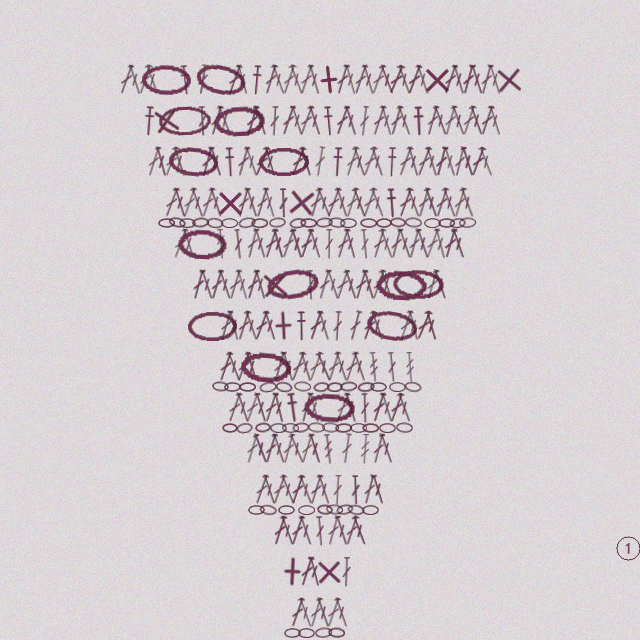chain: (193, 60, 249, 100), (364, 307, 419, 345), (265, 266, 320, 303), (239, 350, 292, 384), (167, 145, 220, 179), (158, 105, 211, 137), (303, 392, 355, 424), (375, 269, 427, 301), (213, 105, 265, 137), (392, 269, 445, 300), (177, 228, 228, 260), (141, 64, 192, 95), (258, 147, 310, 177), (187, 311, 237, 341), (336, 503, 354, 516), (168, 216, 186, 229), (238, 216, 256, 229), (259, 504, 277, 516), (347, 504, 365, 516), (259, 381, 277, 393), (275, 381, 293, 393), (357, 381, 375, 393), (404, 381, 422, 393), (206, 217, 224, 229), (289, 217, 307, 229), (236, 422, 253, 434), (313, 381, 330, 393), (449, 217, 466, 229), (292, 422, 310, 433), (328, 217, 346, 228), (315, 627, 332, 638), (328, 627, 345, 638), (326, 504, 343, 515), (308, 422, 325, 433), (322, 422, 339, 433), (396, 422, 413, 433), (212, 381, 229, 392), (294, 381, 311, 392), (340, 381, 357, 392), (192, 217, 209, 228), (269, 217, 286, 228), (316, 217, 333, 228), (405, 217, 422, 228), (459, 217, 476, 228), (317, 504, 333, 515), (255, 422, 271, 433), (390, 217, 406, 228), (284, 628, 301, 638), (298, 628, 315, 638), (248, 505, 265, 515), (278, 505, 295, 515), (298, 505, 315, 515), (362, 505, 379, 515), (270, 423, 287, 433), (282, 423, 299, 433), (335, 423, 352, 433), (350, 423, 367, 433), (362, 423, 379, 433), (379, 423, 396, 433), (224, 382, 241, 392), (239, 382, 256, 392), (370, 382, 387, 392), (389, 382, 406, 392), (158, 218, 175, 228), (179, 218, 196, 228), (221, 218, 238, 228), (251, 218, 268, 228), (300, 218, 317, 228), (340, 218, 357, 228), (360, 218, 377, 228), (424, 218, 441, 228), (438, 218, 455, 228), (222, 423, 238, 433), (327, 382, 343, 392), (376, 218, 392, 228)
double: (386, 64, 407, 95), (278, 474, 298, 505), (296, 474, 316, 505), (251, 433, 271, 464), (287, 433, 307, 464), (224, 351, 244, 382), (288, 351, 308, 382), (314, 351, 334, 382), (414, 310, 434, 341), (314, 187, 334, 218), (252, 146, 272, 177), (288, 146, 308, 177), (360, 146, 380, 177), (414, 146, 434, 177), (468, 146, 488, 177), (476, 146, 496, 177), (215, 105, 235, 136), (377, 64, 397, 95), (288, 597, 307, 628), (296, 597, 315, 628), (314, 597, 333, 628), (324, 597, 343, 628), (332, 597, 351, 628), (278, 515, 297, 546), (288, 515, 307, 546), (350, 515, 369, 546), (252, 474, 271, 505), (260, 474, 279, 505), (270, 474, 289, 505), (288, 474, 307, 505), (377, 433, 396, 464), (225, 392, 244, 423), (243, 392, 262, 423), (333, 392, 352, 423), (387, 392, 406, 423), (395, 392, 414, 423), (216, 351, 235, 382), (234, 351, 253, 382), (306, 351, 325, 382), (332, 351, 351, 382), (342, 351, 361, 382), (350, 351, 369, 382), (242, 310, 261, 341), (252, 310, 271, 341), (360, 310, 379, 341), (368, 310, 387, 341), (333, 269, 352, 300), (369, 269, 388, 300), (377, 269, 396, 300), (431, 269, 450, 300), (171, 228, 190, 259), (279, 228, 298, 259), (297, 228, 316, 259), (377, 228, 396, 259), (423, 228, 442, 259), (449, 228, 468, 259), (162, 187, 181, 218), (180, 187, 199, 218), (188, 187, 207, 218), (324, 187, 343, 218), (350, 187, 369, 218), (360, 187, 379, 218), (368, 187, 387, 218), (396, 187, 415, 218), (404, 187, 423, 218), (422, 187, 441, 218), (440, 187, 459, 218), (458, 187, 477, 218), (162, 146, 181, 177), (170, 146, 189, 177), (242, 146, 261, 177), (350, 146, 369, 177), (368, 146, 387, 177), (396, 146, 415, 177), (251, 105, 270, 136), (279, 105, 298, 136), (297, 105, 316, 136), (333, 105, 352, 136), (395, 105, 414, 136), (431, 105, 450, 136), (449, 105, 468, 136), (467, 105, 486, 136), (117, 64, 136, 95), (143, 64, 162, 95), (225, 64, 244, 95), (269, 64, 288, 95), (287, 64, 306, 95), (297, 64, 316, 95), (351, 64, 370, 95), (369, 64, 388, 95), (395, 64, 414, 95), (405, 64, 424, 95), (441, 64, 460, 95), (307, 597, 325, 628), (298, 556, 316, 587), (271, 515, 289, 546), (297, 515, 315, 546), (333, 515, 351, 546), (343, 515, 361, 546), (307, 474, 325, 505), (315, 474, 333, 505), (369, 474, 387, 505), (262, 433, 280, 464), (270, 433, 288, 464), (298, 433, 316, 464), (306, 433, 324, 464), (234, 392, 252, 423), (252, 392, 270, 423), (262, 392, 280, 423), (342, 392, 360, 423), (370, 392, 388, 423), (378, 392, 396, 423), (243, 351, 261, 382), (279, 351, 297, 382), (297, 351, 315, 382), (325, 351, 343, 382), (217, 310, 235, 341), (235, 310, 253, 341), (261, 310, 279, 341), (307, 310, 325, 341), (315, 310, 333, 341), (397, 310, 415, 341), (198, 269, 216, 300), (208, 269, 226, 300), (216, 269, 234, 300), (226, 269, 244, 300), (244, 269, 262, 300), (324, 269, 342, 300), (342, 269, 360, 300), (352, 269, 370, 300), (360, 269, 378, 300), (180, 228, 198, 259), (262, 228, 280, 259), (288, 228, 306, 259), (306, 228, 324, 259), (334, 228, 352, 259), (370, 228, 388, 259), (396, 228, 414, 259), (414, 228, 432, 259), (171, 187, 189, 218), (199, 187, 217, 218), (207, 187, 225, 218), (243, 187, 261, 218), (253, 187, 271, 218), (307, 187, 325, 218), (333, 187, 351, 218), (343, 187, 361, 218), (415, 187, 433, 218), (433, 187, 451, 218), (451, 187, 469, 218), (145, 146, 163, 177), (207, 146, 225, 177), (261, 146, 279, 177), (297, 146, 315, 177), (343, 146, 361, 177), (423, 146, 441, 177), (441, 146, 459, 177), (459, 146, 477, 177), (288, 105, 306, 136), (306, 105, 324, 136), (342, 105, 360, 136), (370, 105, 388, 136), (460, 105, 478, 136), (478, 105, 496, 136), (486, 105, 504, 136), (126, 64, 144, 95), (136, 64, 154, 95), (262, 64, 280, 95), (280, 64, 298, 95), (414, 64, 432, 95), (450, 64, 468, 95), (468, 64, 486, 95), (486, 64, 504, 95), (306, 556, 323, 587), (325, 515, 342, 546), (361, 474, 378, 505), (244, 433, 261, 464), (280, 433, 297, 464), (370, 433, 387, 464), (298, 392, 315, 423), (306, 392, 323, 423), (271, 351, 288, 382), (347, 310, 364, 341), (405, 310, 422, 341), (423, 310, 440, 341), (190, 269, 207, 300), (234, 269, 251, 300), (252, 269, 269, 300), (316, 269, 333, 300), (424, 269, 441, 300), (244, 228, 261, 259), (252, 228, 269, 259), (270, 228, 287, 259), (342, 228, 359, 259), (388, 228, 405, 259), (406, 228, 423, 259), (432, 228, 449, 259), (442, 228, 459, 259), (235, 187, 252, 218), (261, 187, 278, 218), (153, 146, 170, 177), (199, 146, 216, 177), (235, 146, 252, 177), (405, 146, 422, 177), (433, 146, 450, 177), (208, 105, 225, 136), (244, 105, 261, 136), (378, 105, 395, 136), (388, 105, 405, 136), (424, 105, 441, 136), (442, 105, 459, 136), (234, 64, 251, 95), (306, 64, 323, 95), (334, 64, 351, 95), (342, 64, 359, 95), (360, 64, 377, 95), (460, 64, 477, 95), (478, 64, 495, 95), (271, 392, 287, 423), (226, 310, 242, 341), (452, 146, 468, 177), (340, 433, 354, 464), (313, 146, 327, 177), (196, 64, 210, 95), (232, 229, 245, 259), (358, 106, 371, 136), (314, 516, 326, 546), (386, 352, 398, 382), (359, 229, 371, 259), (341, 557, 352, 587), (332, 475, 343, 505), (350, 475, 361, 505), (332, 311, 343, 341), (305, 270, 316, 300), (278, 188, 289, 218), (197, 106, 208, 136), (269, 106, 280, 136), (360, 393, 370, 423), (324, 229, 334, 259)
half_double: (285, 392, 300, 423), (142, 106, 156, 136), (178, 65, 192, 95), (385, 188, 398, 218), (331, 147, 344, 177), (322, 106, 335, 136), (412, 106, 425, 136), (250, 65, 263, 95), (224, 147, 236, 177), (386, 147, 398, 177), (296, 311, 307, 341)
noise: (614, 534, 640, 562)
single: (149, 103, 184, 138), (285, 186, 318, 219), (312, 63, 345, 96), (259, 269, 291, 301), (493, 64, 525, 96), (277, 556, 308, 587), (268, 310, 299, 341), (314, 557, 344, 587), (215, 188, 245, 218), (422, 65, 452, 95)
treble: (322, 434, 335, 464), (359, 434, 371, 464), (368, 352, 380, 382), (404, 352, 416, 382), (215, 229, 227, 259)
